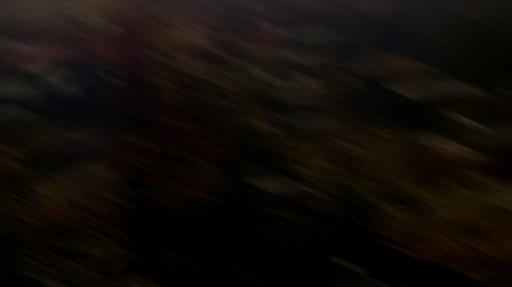Fish: (3, 131, 122, 192), (46, 166, 115, 205), (391, 80, 482, 97), (430, 138, 489, 157), (42, 72, 85, 95), (481, 161, 511, 190), (447, 113, 484, 130), (13, 51, 50, 68), (252, 180, 309, 191), (285, 115, 342, 126), (470, 132, 511, 145), (23, 43, 70, 54), (0, 80, 34, 95), (255, 51, 294, 64), (288, 31, 343, 40), (29, 62, 62, 77), (167, 31, 204, 44), (285, 52, 332, 61), (284, 81, 317, 92), (0, 39, 33, 50), (284, 81, 316, 92), (13, 85, 36, 100), (272, 94, 321, 101), (248, 48, 289, 56), (414, 136, 439, 149), (235, 66, 280, 73), (0, 107, 34, 116), (181, 62, 204, 75), (264, 23, 285, 36), (245, 17, 274, 26), (180, 55, 203, 66), (256, 74, 279, 85), (293, 72, 316, 83), (238, 78, 258, 88), (199, 94, 222, 101), (101, 22, 114, 31), (102, 73, 115, 80), (0, 81, 12, 87), (508, 92, 511, 98), (0, 107, 5, 110)
